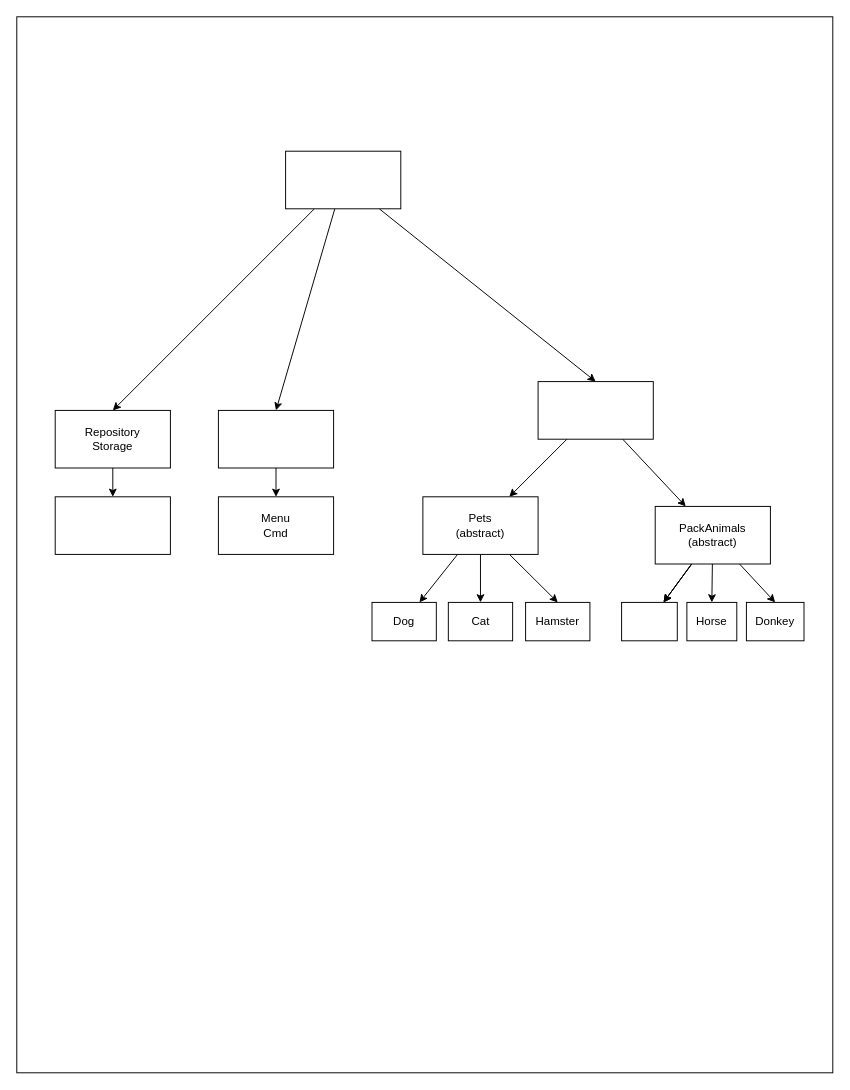
This 850x1090 diagram has some shape labels left out. Each missing label, with the centre of its shape:
Animals (absract): point (595, 410)
Application: point (343, 179)
ArrayList<Animals>: point (112, 525)
Camel: point (649, 621)
View: point (275, 438)
